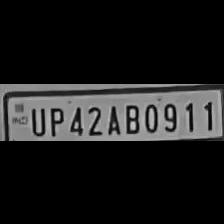0: (140, 100, 158, 132)
1: (180, 98, 198, 132), (198, 98, 216, 130)
2: (84, 102, 104, 136)
4: (65, 102, 84, 136)
9: (160, 100, 178, 132)
A: (103, 102, 121, 134)
B: (122, 100, 140, 134)
P: (45, 104, 63, 136)
U: (28, 104, 46, 136)
